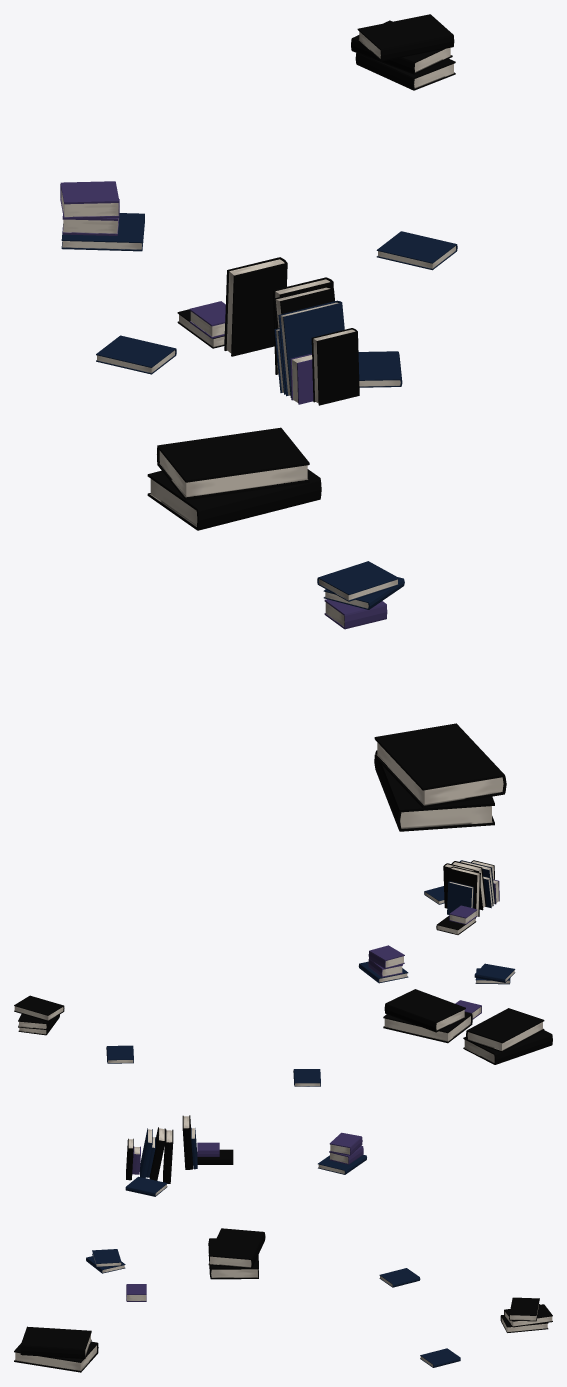
Rendered from books.obj.
3 views of the same model, one above another, from view 1: azimuth 30°, elevation 25°; view 2: azimuth 150°, elevation 25°; view 3: azimuth 270°, elevation 25° (orthographic). The views are drawn at different scales.
Visible parts, largest first — view 1: book8_Cube.060, book5_Cube.031, book7_Cube.059, book20_Cube.045, book4_Cube.030, book3_Cube.025, book11_Cube.071, book16_Cube.022, book26_Cube.054, book14_Cube.018, book19_Cube.061, book21_Cube.072 (+9 smaller); view 2: book8_Cube.060, book5_Cube.031, book4_Cube.030, book7_Cube.059, book11_Cube.071, book20_Cube.045, book12_Cube.050, book26_Cube.054, book14_Cube.018, book21_Cube.072, book19_Cube.061, book6_Cube.058 (+6 smaller); view 3: book5_Cube.031, book8_Cube.060, book4_Cube.030, book7_Cube.059, book11_Cube.071, book26_Cube.054, book17_Cube.026, book21_Cube.072, book19_Cube.061, book2_Cube.020, book18_Cube.049, book14_Cube.018 (+9 smaller).
Part boxes in pixels (x1=…): book8_Cube.060: x1=157, y1=427, x2=309, y2=500; book5_Cube.031: x1=374, y1=723, x2=506, y2=807; book7_Cube.059: x1=147, y1=469, x2=321, y2=530; book20_Cube.045: x1=224, y1=257, x2=287, y2=356; book4_Cube.030: x1=374, y1=750, x2=494, y2=831; book3_Cube.025: x1=311, y1=328, x2=359, y2=405; book11_Cube.071: x1=357, y1=14, x2=454, y2=61; book16_Cube.022: x1=278, y1=300, x2=344, y2=397; book26_Cube.054: x1=60, y1=181, x2=119, y2=219; book14_Cube.018: x1=317, y1=561, x2=399, y2=601; book19_Cube.061: x1=96, y1=335, x2=176, y2=374; book21_Cube.072: x1=376, y1=231, x2=457, y2=270; book8_Cube.060: x1=384, y1=989, x2=465, y2=1032; book5_Cube.031: x1=466, y1=1008, x2=544, y2=1052; book4_Cube.030: x1=463, y1=1030, x2=552, y2=1064; book7_Cube.059: x1=383, y1=1012, x2=472, y2=1043; book11_Cube.071: x1=14, y1=995, x2=64, y2=1021; book20_Cube.045: x1=449, y1=866, x2=480, y2=918; book12_Cube.050: x1=447, y1=881, x2=473, y2=914; book26_Cube.054: x1=368, y1=945, x2=404, y2=968; book14_Cube.018: x1=474, y1=963, x2=515, y2=982; book21_Cube.072: x1=106, y1=1045, x2=133, y2=1063; book19_Cube.061: x1=293, y1=1069, x2=320, y2=1086; book6_Cube.058: x1=436, y1=916, x2=476, y2=934; book5_Cube.031: x1=20, y1=1326, x2=91, y2=1358; book8_Cube.060: x1=208, y1=1228, x2=265, y2=1268; book4_Cube.030: x1=14, y1=1341, x2=98, y2=1372; book7_Cube.059: x1=208, y1=1238, x2=258, y2=1279; book11_Cube.071: x1=509, y1=1297, x2=539, y2=1321; book26_Cube.054: x1=329, y1=1132, x2=362, y2=1155; book17_Cube.026: x1=125, y1=1176, x2=167, y2=1196; book21_Cube.072: x1=420, y1=1348, x2=460, y2=1367; book19_Cube.061: x1=379, y1=1268, x2=420, y2=1287; book2_Cube.020: x1=149, y1=1127, x2=165, y2=1180; book18_Cube.049: x1=318, y1=1154, x2=366, y2=1174; book14_Cube.018: x1=92, y1=1249, x2=121, y2=1267.
Size of the model in its own units: 2.16 by 1.63 by 3.55.
Materials: 1 (1 with a texture image).
